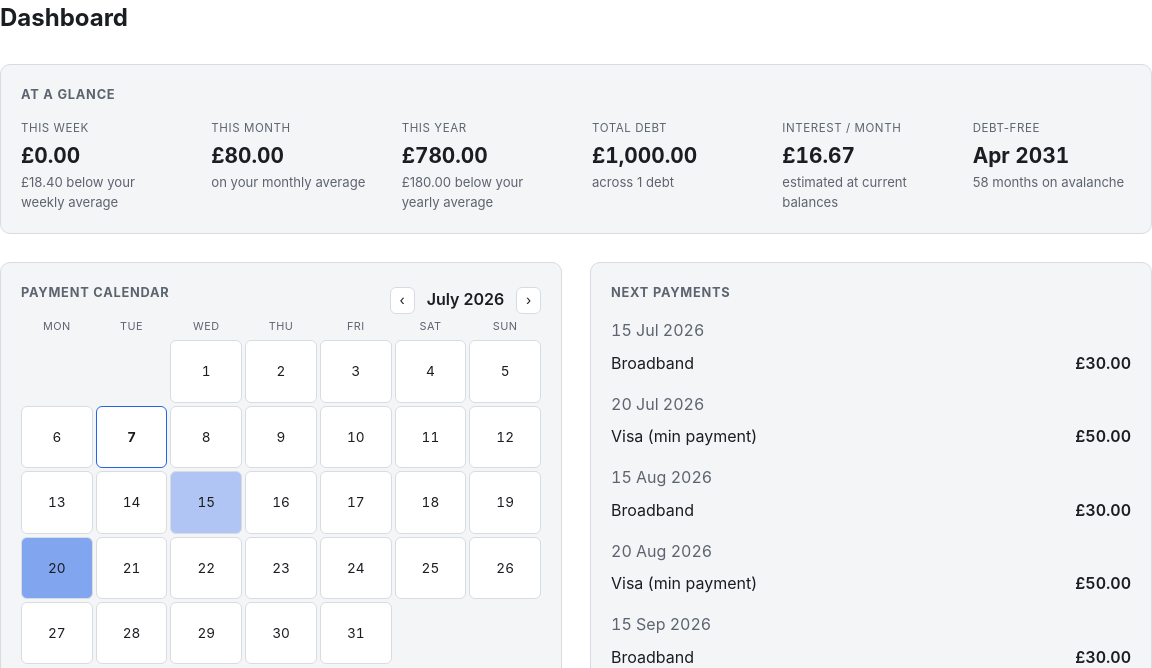
Test case: Dashboard v2 › payment calendar shades due days, navigates months, and lists a selected day
Check: the heading "Payment calendar" is shown, box [21,283,170,302]
Check: the button named "20 Jul 2026 — £50.00 due" is shown, box [21,537,93,599]
# Selecting a day lists its payments.
Click the button named "15 Jul 2026 — £30.00 due" at (206, 502), box [170,471,242,534]
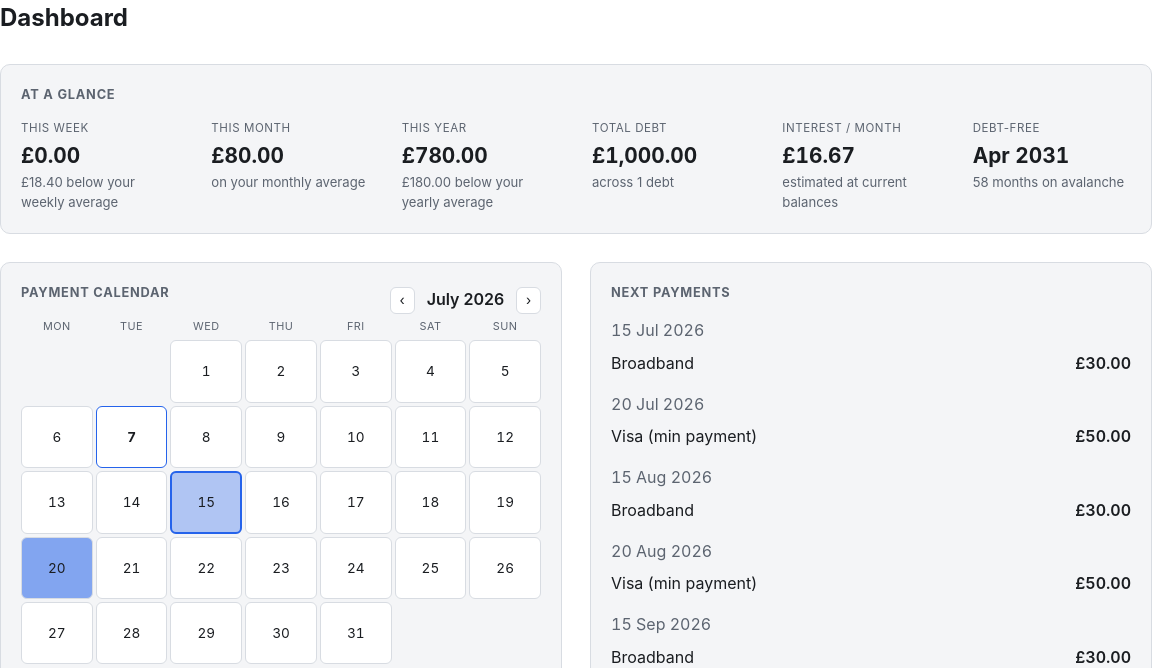
Click the button named "Next month" at (529, 300), box [516,287,541,314]
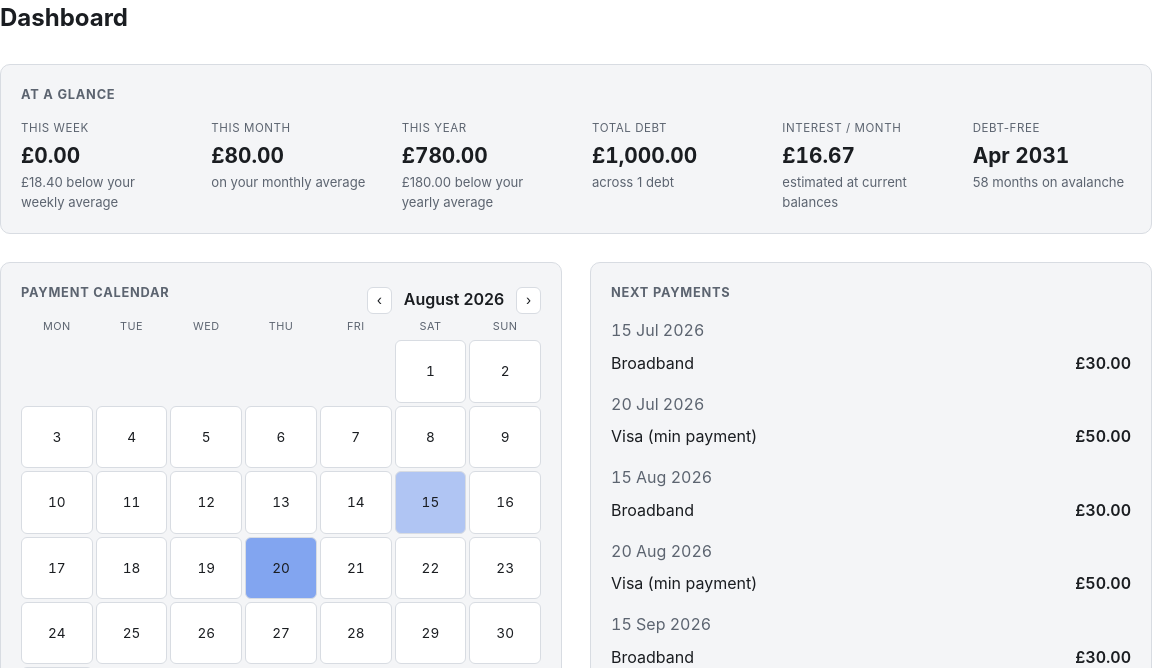
Check: the text "August 2026" is shown, box [397,287,511,314]
Check: the button named "15 Aug 2026 — £30.00 due" is shown, box [395,471,466,534]
